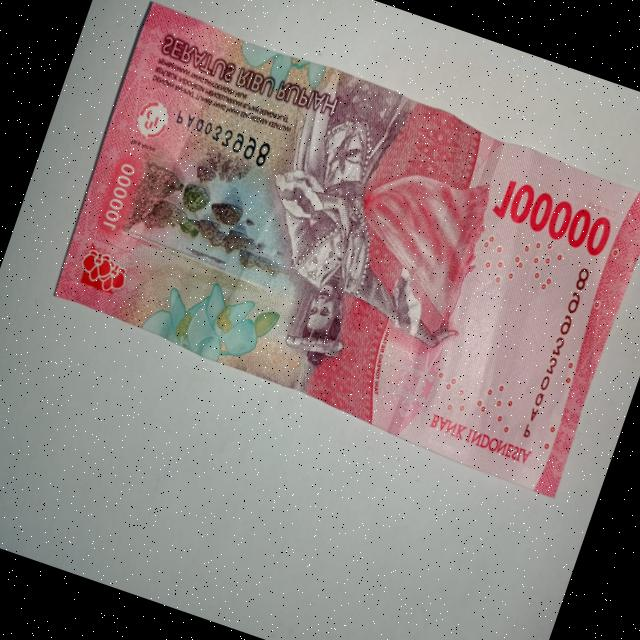100K: (34, 0, 640, 508)
